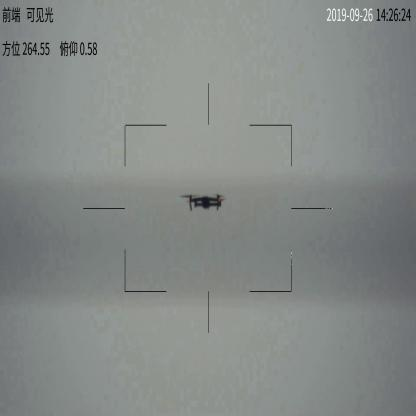uav: (180, 190, 228, 215)
